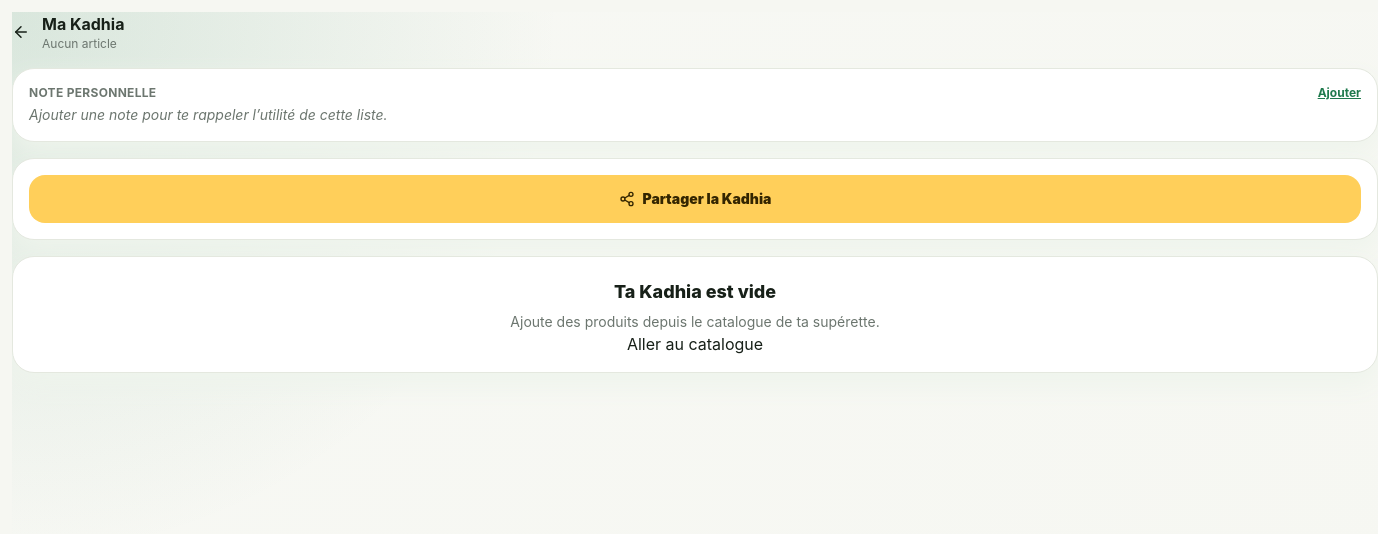
Test: KadhiaDetailPage — note personnelle › efface le message d'erreur de sauvegarde quand l'utilisateur annule
Click the button "Ajouter" at (1339, 93), box 1318,85 -> 1361,101
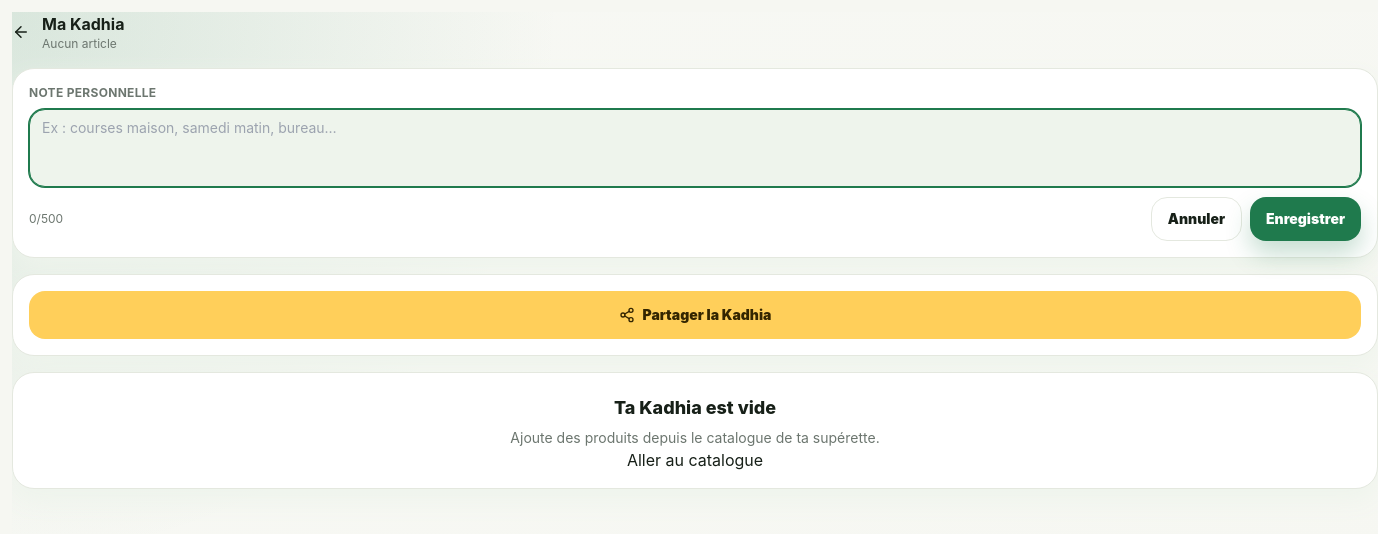
Type "test" into the text box with placeholder "Ex : courses maison, samedi matin, bureau…" at (695, 148), box 29,109 -> 1361,187
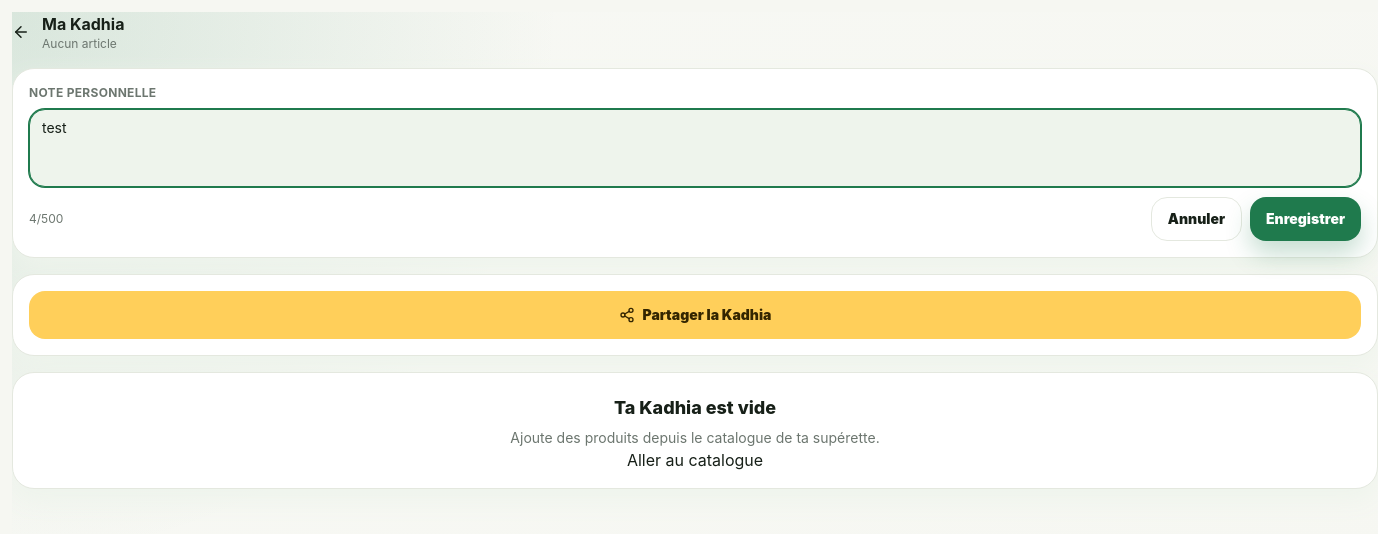
Click the button "Enregistrer" at (1306, 219), box 1250,197 -> 1361,241
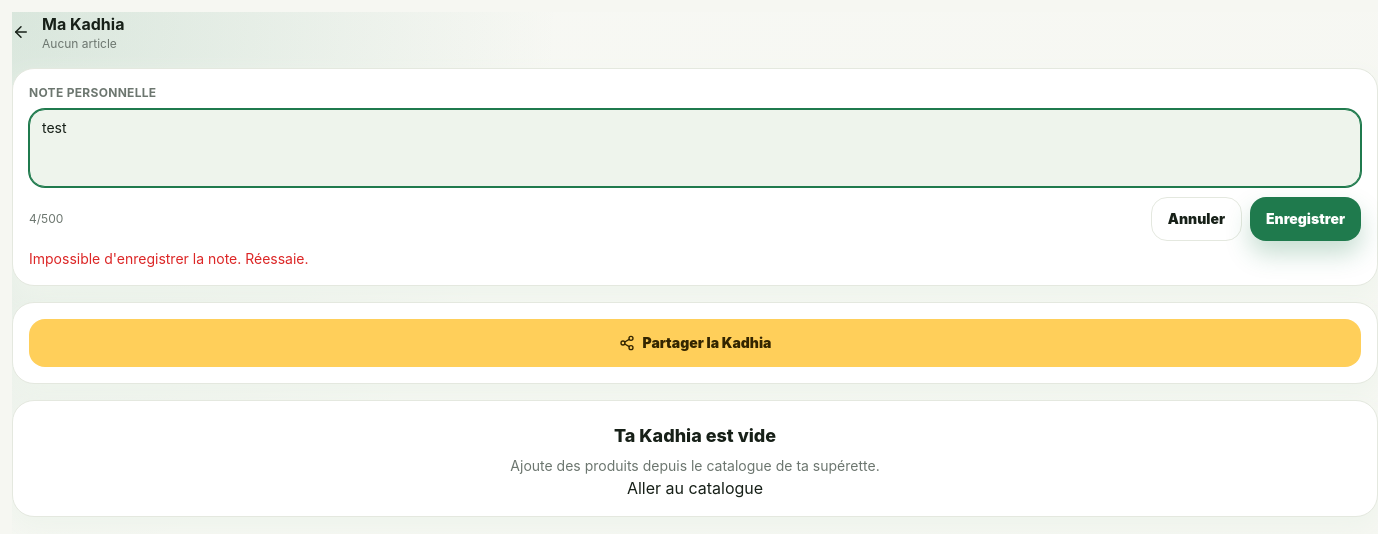
Result: the text "Impossible d'enregistrer la note. Réessaie." is shown at 29,250 -> 309,267
Click the button "Annuler" at (1196, 219), box 1151,197 -> 1242,241
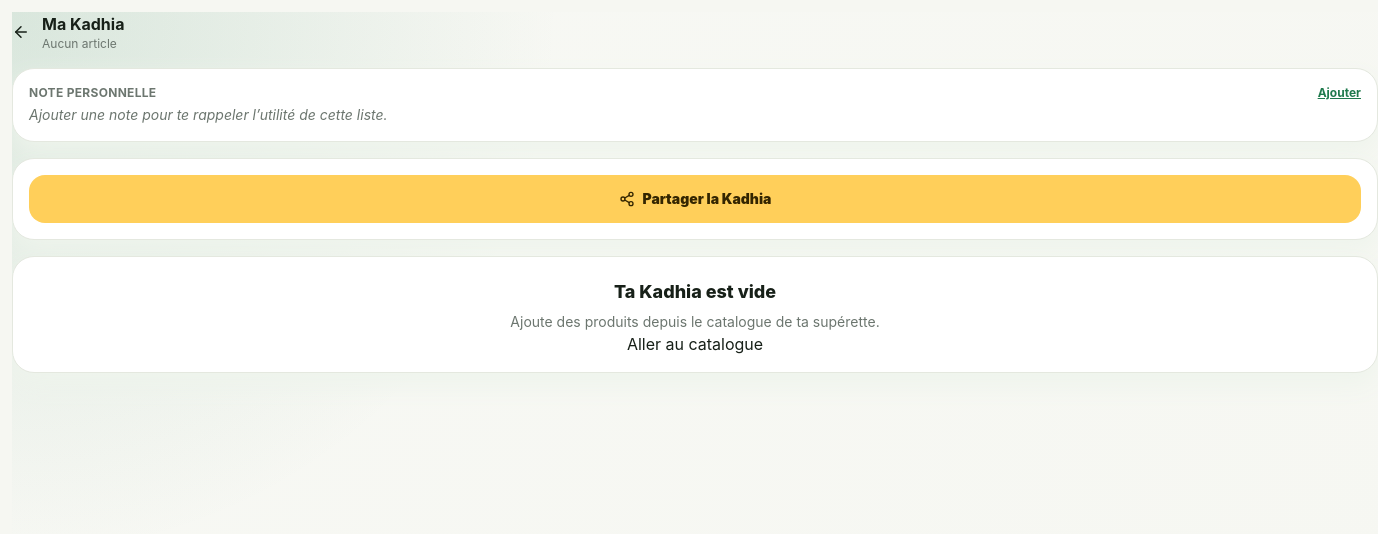
Result: the text "Impossible d'enregistrer" is gone
